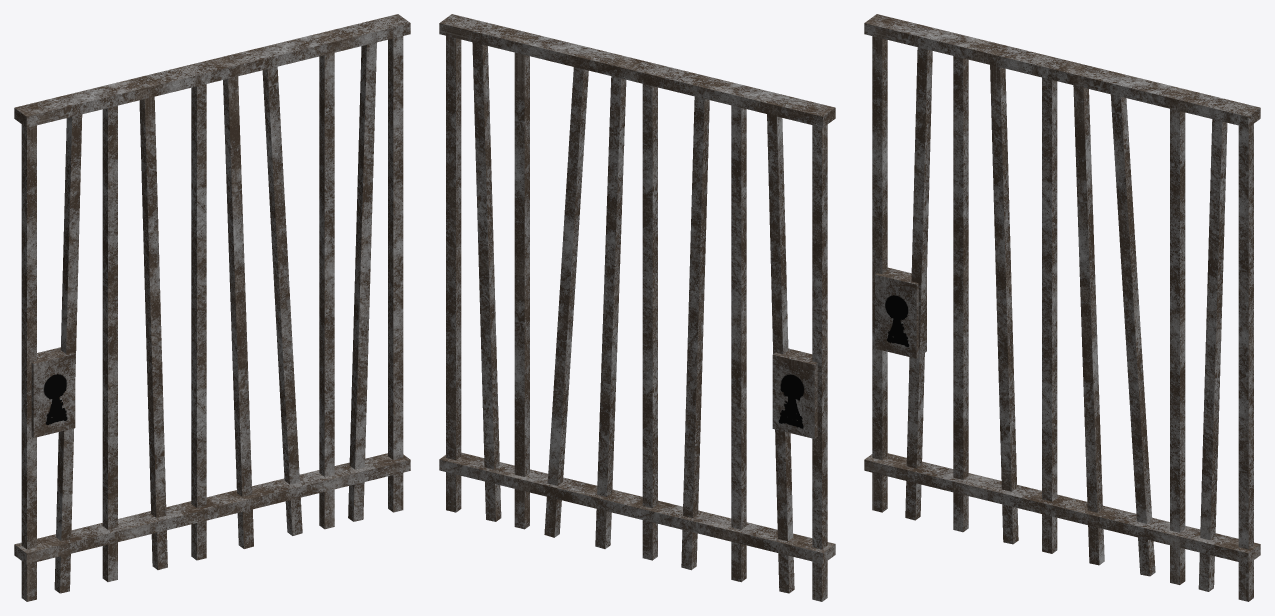
File: puertabidones.obj
The picture shows the model from 3 angles, left to right: view 1: azimuth 30°, elevation 25°; view 2: azimuth 150°, elevation 25°; view 3: azimuth 330°, elevation 25°; orthographic projection.
Parts seen in each view (by area): view 1: puertabidones; view 2: puertabidones; view 3: puertabidones.
Boxes of the visible parts, box(x1,y1,x2,y2) form: puertabidones: box(14, 14, 410, 601); puertabidones: box(439, 14, 835, 601); puertabidones: box(864, 14, 1260, 601).
Bounding box in the file's own units: 14.83 × 18.06 × 0.8389.
Materials: 1 (1 with a texture image).
